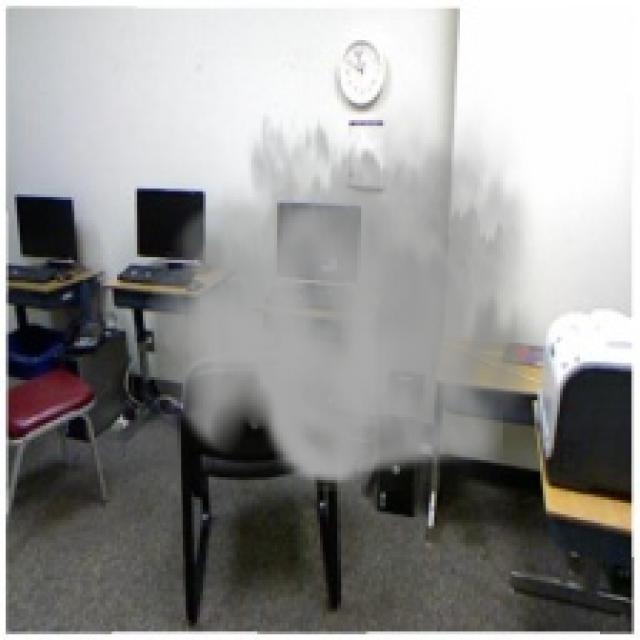Smoke: (145, 74, 558, 492)
